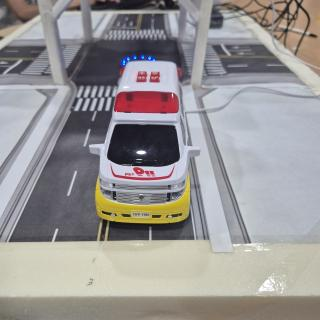Ambulance: (89, 61, 200, 223)
